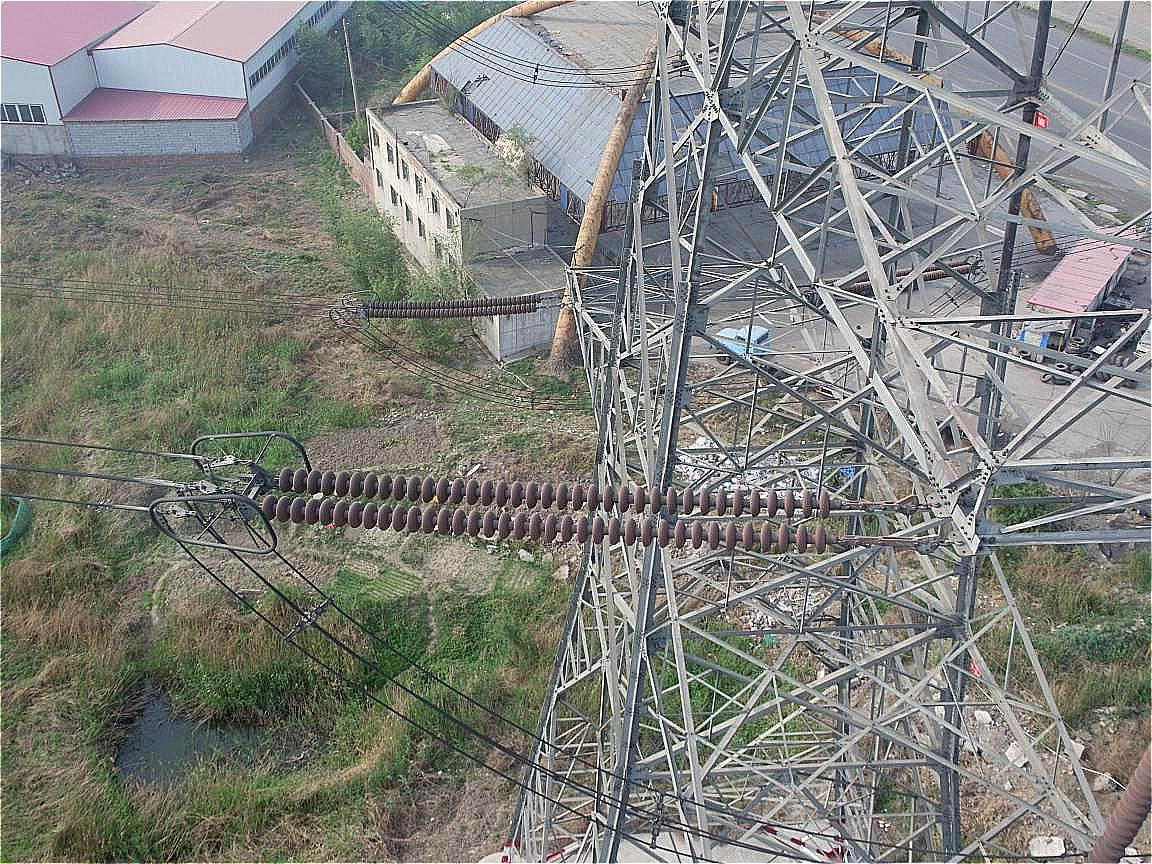insultor1: (265, 465, 832, 556)
insultor2: (364, 294, 545, 317)
